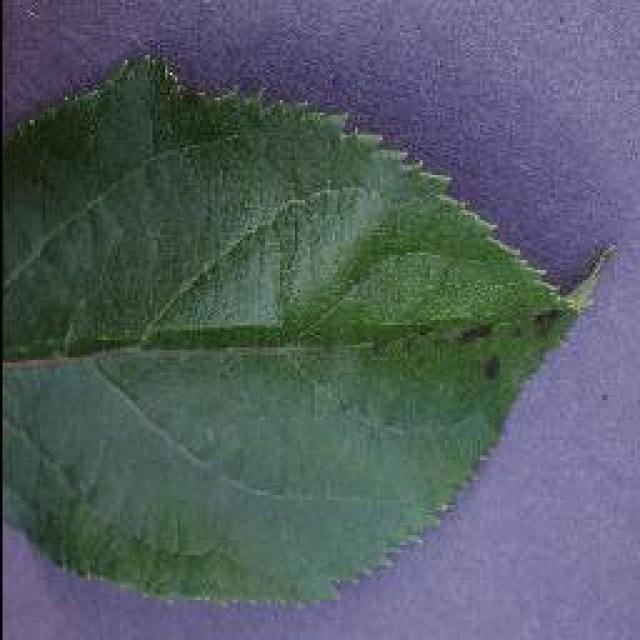apple scab disease: (0, 50, 615, 608)
